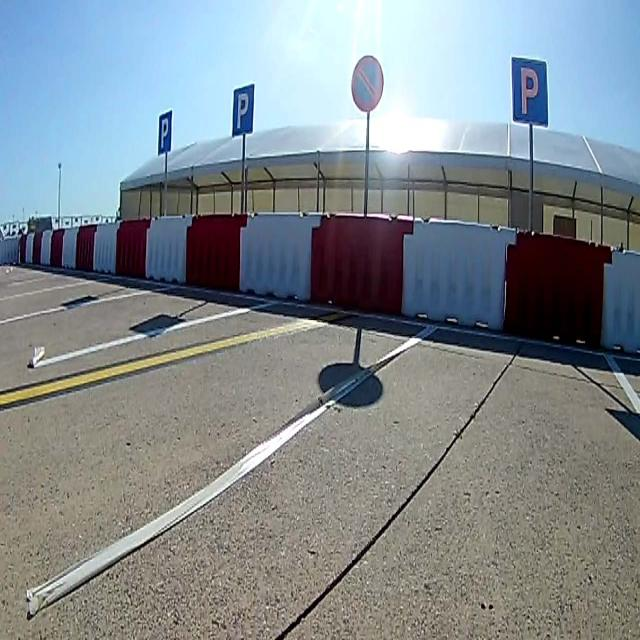park: (510, 54, 548, 127), (233, 85, 253, 134), (158, 112, 171, 154)
parkyasak: (351, 59, 385, 110)
